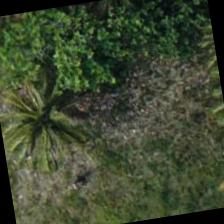Kelapa_Sawit: (0, 67, 92, 170)
